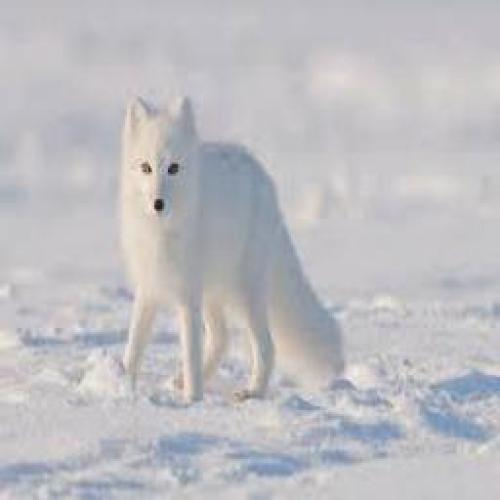arctic_fox-endangered: (114, 97, 346, 401)
